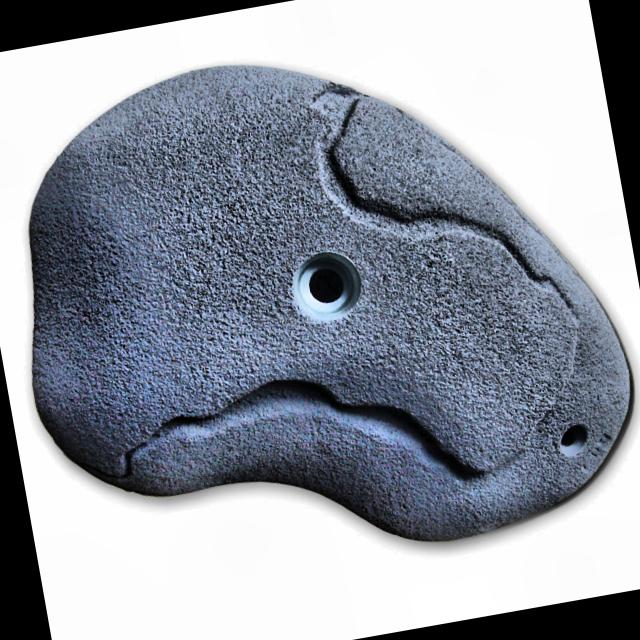Hold: (0, 5, 640, 615)
